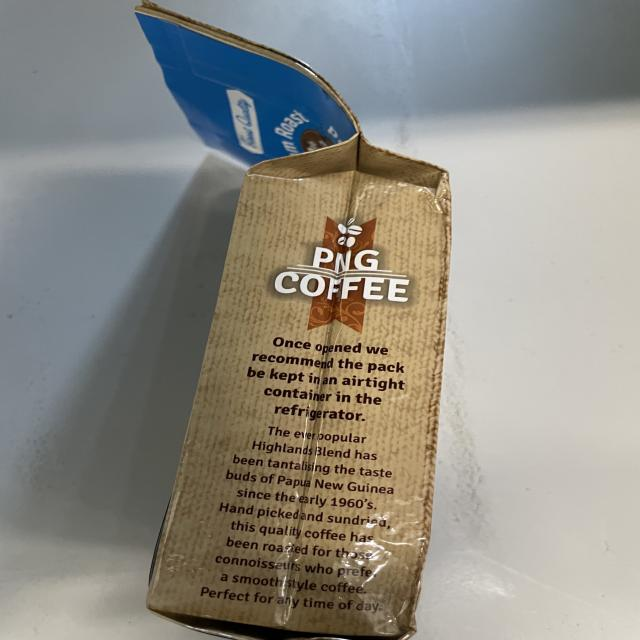object_name: (145, 16, 413, 640)
